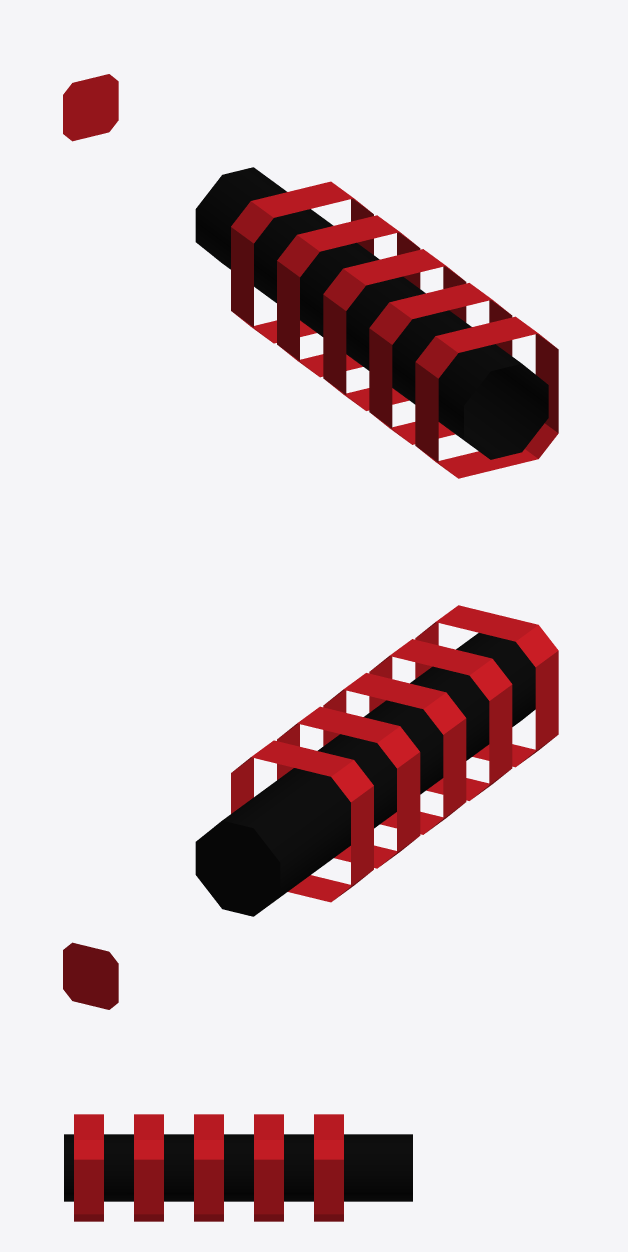
The model's file is fant_flamethrower.obj.
3 renders of one model, top to bottom at view 1: azimuth 30°, elevation 25°; view 2: azimuth 150°, elevation 25°; view 3: azimuth 270°, elevation 25°, orthographic. The views are drawn at different scales.
Visible parts, largest first — view 1: fant_flamethrower_Cube; view 2: fant_flamethrower_Cube; view 3: fant_flamethrower_Cube.
Boxes of the visible parts, x1,y1,x2,y2 form: fant_flamethrower_Cube: [63, 74, 558, 478]; fant_flamethrower_Cube: [63, 605, 558, 1009]; fant_flamethrower_Cube: [64, 1114, 412, 1221].
Size of the model in its own units: 1 by 1 by 5.
